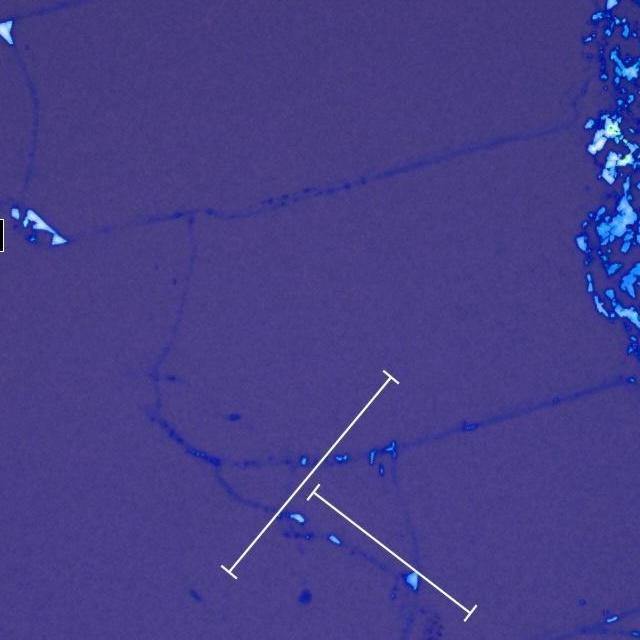monolayer-eWW4: (296, 588, 312, 606)
